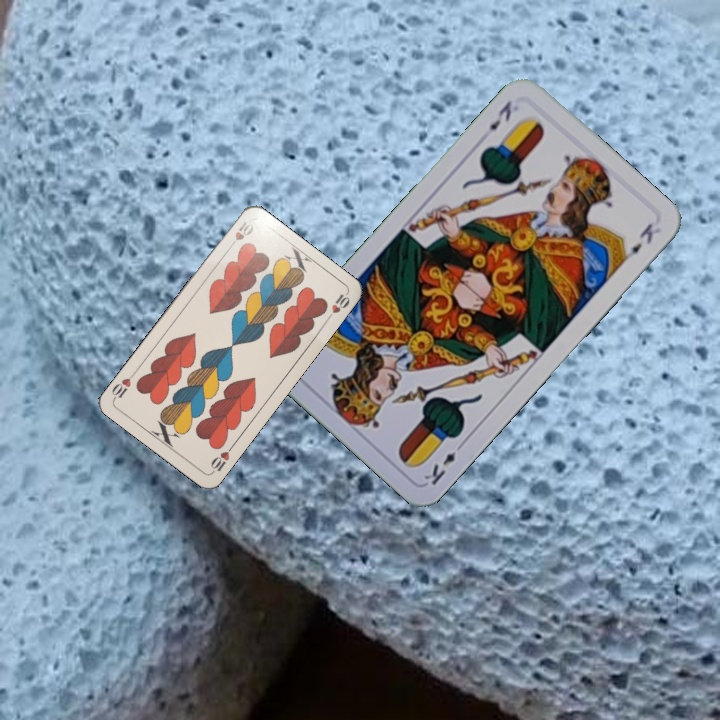EK: (419, 437, 468, 488), (484, 96, 515, 134)
H10: (224, 217, 256, 252), (207, 441, 236, 476)
